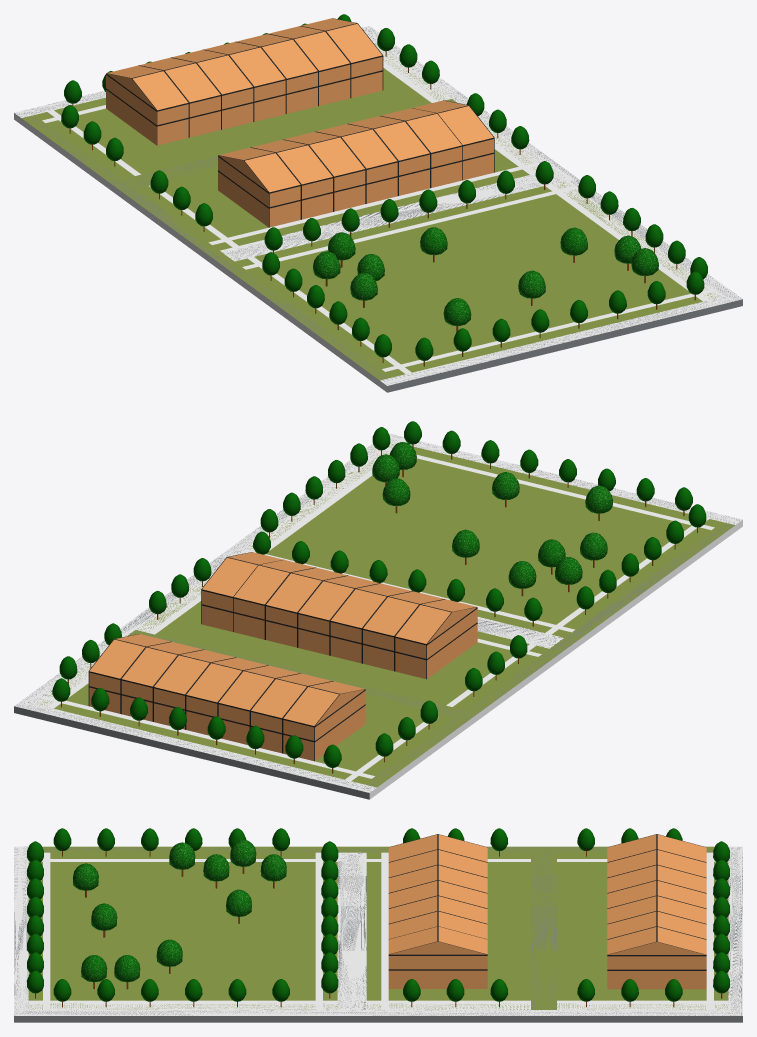
File: 225_townhomes_B.dae
3 renders of one model, top to bottom at view 1: azimuth 30°, elevation 25°; view 2: azimuth 150°, elevation 25°; view 3: azimuth 270°, elevation 25°, orthographic. The views are drawn at different scales.
Visible parts, largest first — view 1: group_3 (×18), Component_2 (×29), Tree_z_Icon_3_1 (×7); view 2: group_3 (×17), Component_2 (×23), Tree_z_Icon_3_1 (×8); view 3: group_3 (×14), Component_2 (×36), Tree_z_Icon_3_1 (×10).
Part boxes in pixels (x1=…): group_3 (×18): x1=14, y1=26, x2=742, y2=392; Component_2 (×29): x1=106, y1=24, x2=493, y2=227; Tree_z_Icon_3_1 (×7): x1=313, y1=227, x2=658, y2=325; group_3 (×17): x1=14, y1=433, x2=742, y2=799; Component_2 (×23): x1=89, y1=557, x2=477, y2=760; Tree_z_Icon_3_1 (×8): x1=372, y1=454, x2=612, y2=588; group_3 (×14): x1=14, y1=846, x2=742, y2=1022; Component_2 (×36): x1=388, y1=834, x2=706, y2=989; Tree_z_Icon_3_1 (×10): x1=73, y1=839, x2=286, y2=982.
Bounding box in the file's own units: 53.63 × 97.5 × 8.
